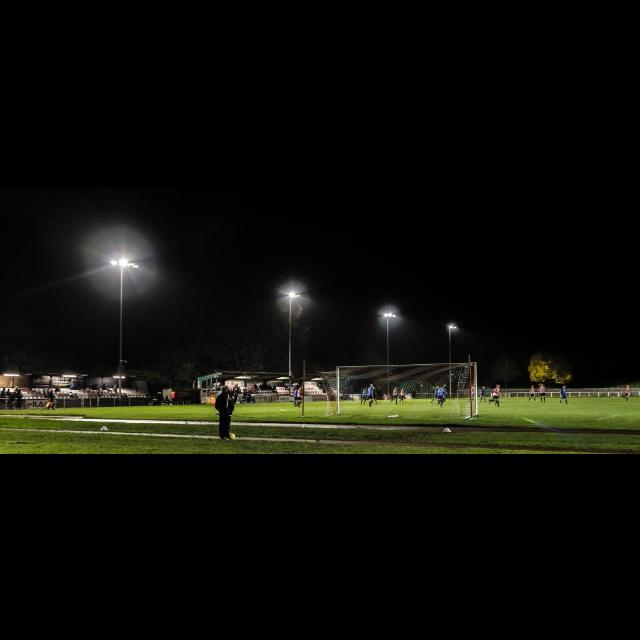Football: (280, 408, 284, 410)
